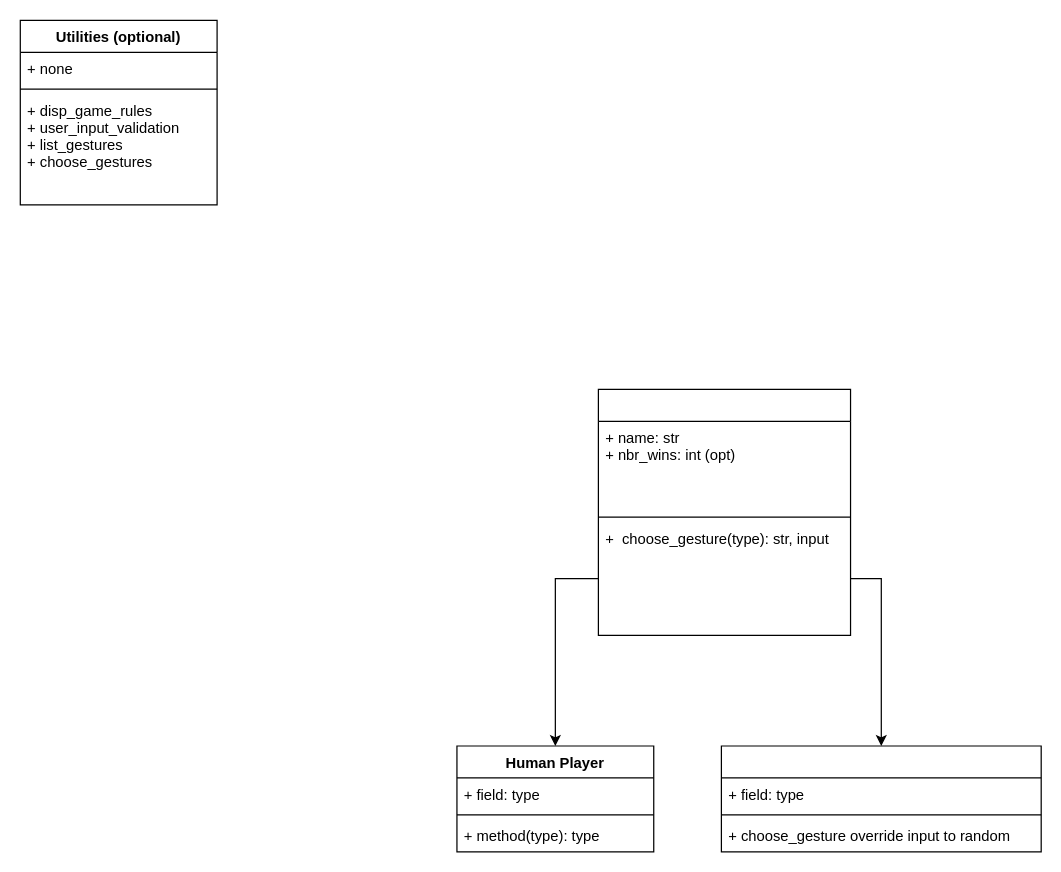
Some shapes in this 1061 by 872 pixel diagram are drawn without their labels. The shapes that lost their labels are listed below. From the top down, each one's box as (x1, y1, x2, y2) in pixels, then its label:
(597, 388, 851, 635): Player
(720, 745, 1041, 852): AI Player
